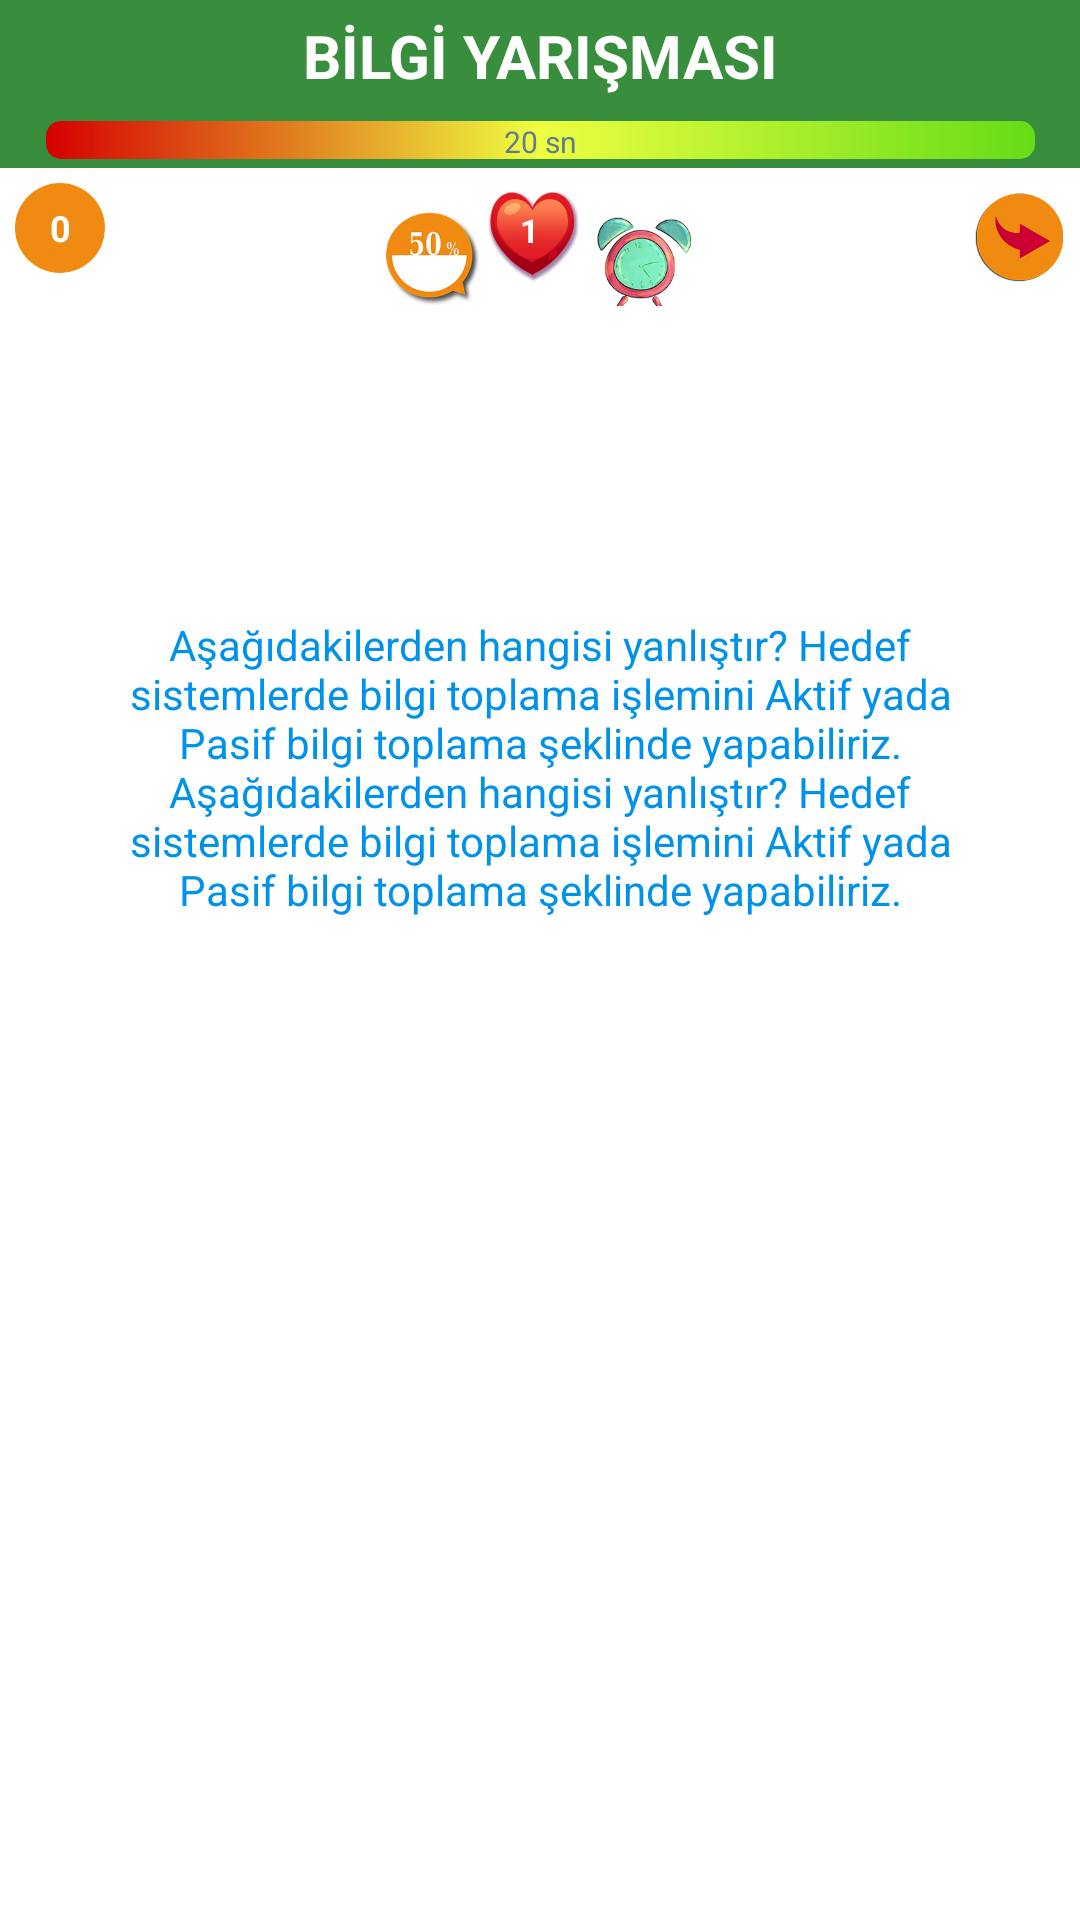

Icons on this 1080x1920 Android screen, each with the point to tap as [x,y]:
clock: [644,261]
heart: [533,236]
percent: [432,257]
skip: [1019,237]
